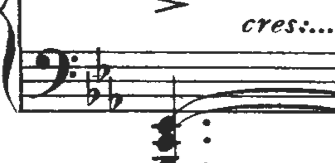bass_clef: (32, 39, 79, 102)
flat: (78, 69, 102, 107), (93, 43, 113, 84), (106, 76, 125, 112)
